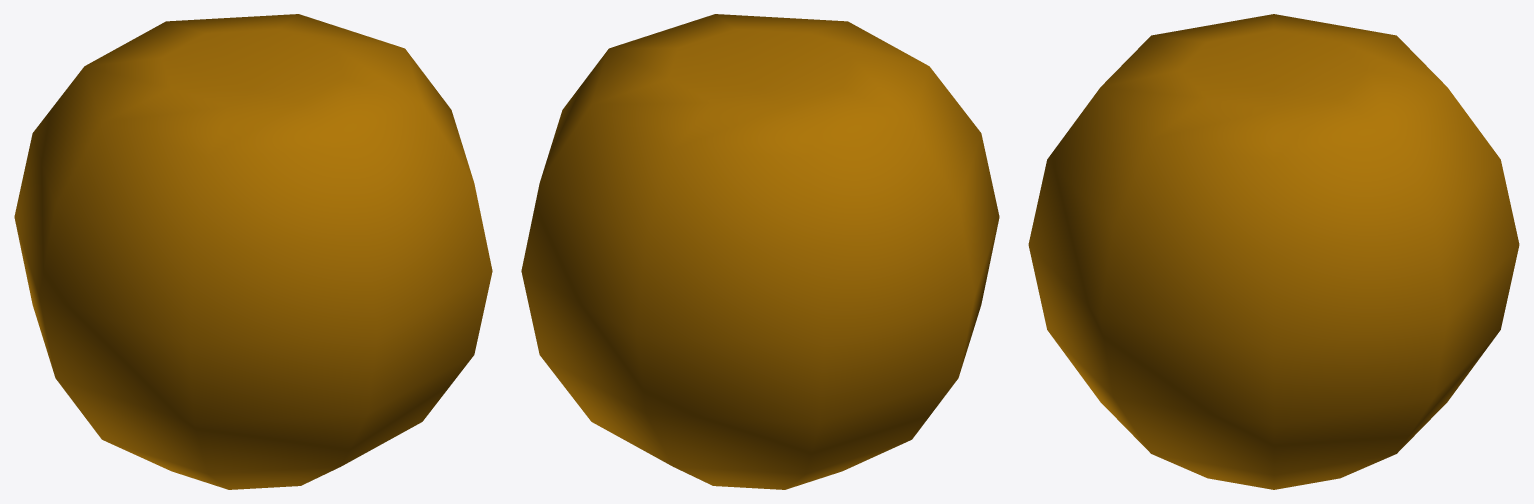
The model's file is Prop_Orange_01.fbx.
3 renders of one model, left to right at view 1: azimuth 30°, elevation 25°; view 2: azimuth 150°, elevation 25°; view 3: azimuth 270°, elevation 25°, orthographic.
Visible parts, largest first — view 1: Prop_Orange_01; view 2: Prop_Orange_01; view 3: Prop_Orange_01.
Part boxes in pixels (<box>): Prop_Orange_01: <box>14,14,492,489</box>; Prop_Orange_01: <box>521,14,999,489</box>; Prop_Orange_01: <box>1028,14,1519,489</box>.
Size of the model in its own units: 10 by 8.75 by 10.
